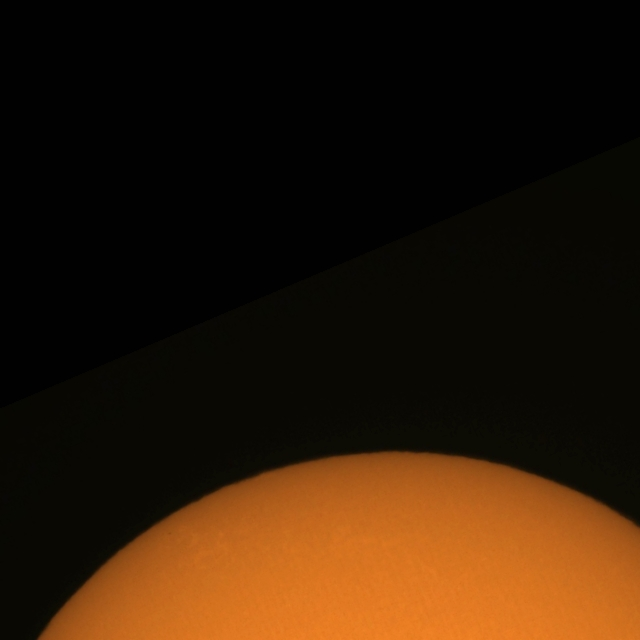sunspot: (167, 530, 172, 536)
